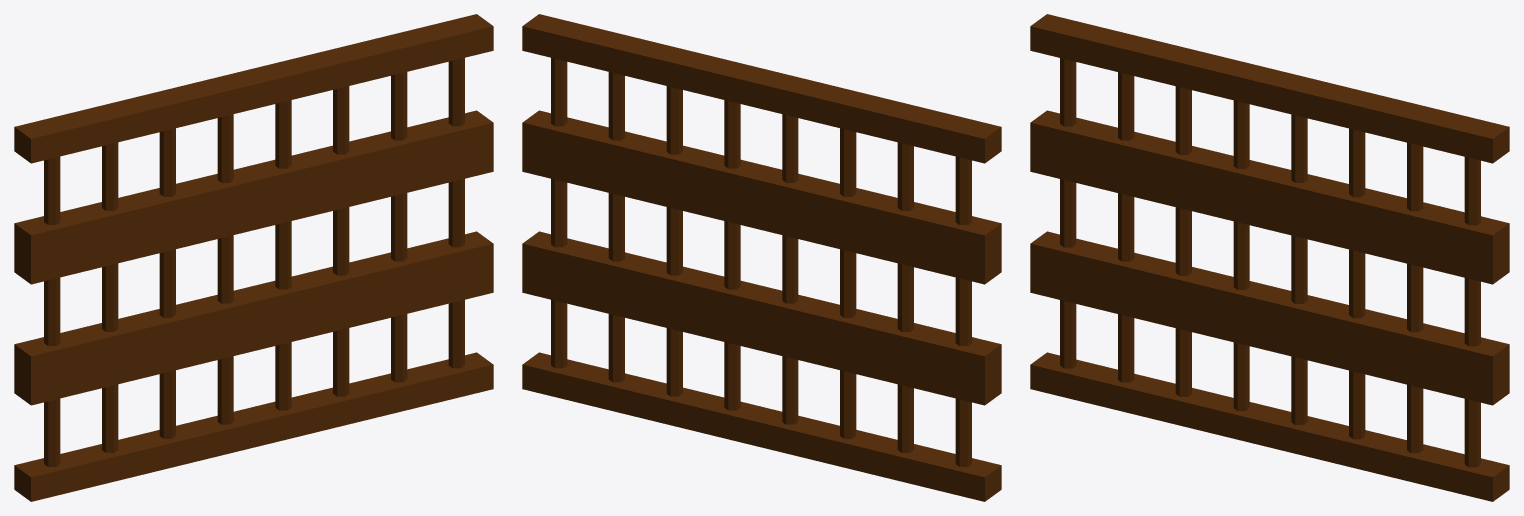
File: paredB.obj
The picture shows the model from 3 angles, left to right: view 1: azimuth 30°, elevation 25°; view 2: azimuth 150°, elevation 25°; view 3: azimuth 330°, elevation 25°; orthographic projection.
Visible parts, largest first — view 1: Railing.004; view 2: Railing.004; view 3: Railing.004.
Part boxes in pixels (x1,y1,x2,y2): Railing.004: (14,14,493,501); Railing.004: (522,14,1001,501); Railing.004: (1030,14,1509,501).
Size of the model in its own units: 8 by 6 by 0.5.
6 materials, 6 textured.
